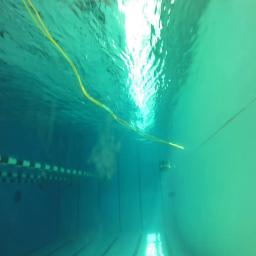Full: (159, 163, 170, 170), (168, 191, 176, 197)
